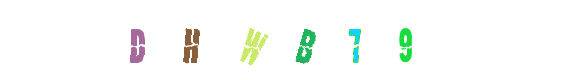7: (310, 0, 390, 80)
9: (315, 0, 395, 80)
B: (251, 0, 331, 80)
D: (99, 0, 179, 80)
H: (151, 0, 231, 80)
W: (229, 0, 309, 80)
